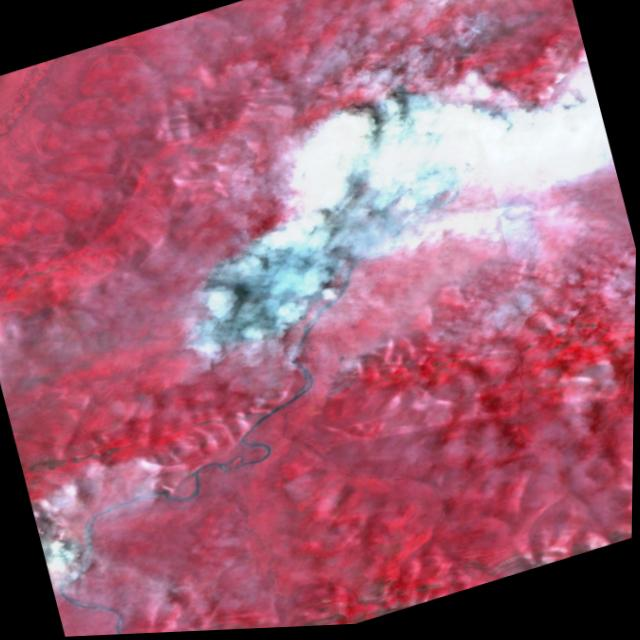fire: (145, 98, 426, 369)
